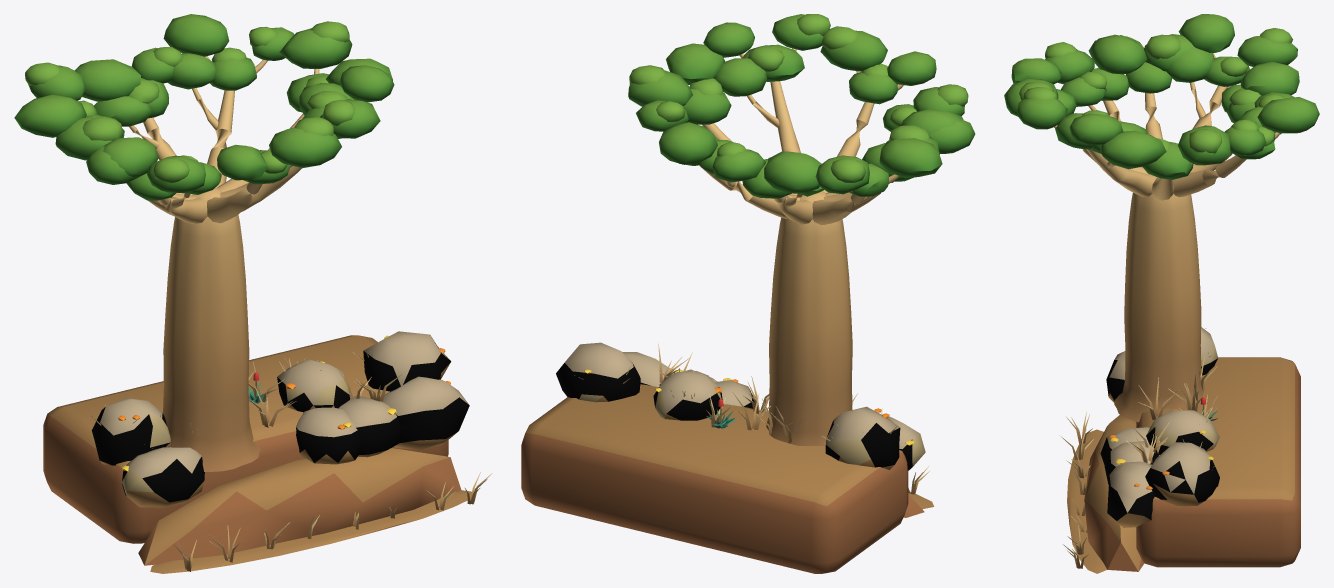
Rendered from SavannaRidgeB.fbx.
The picture shows the model from 3 angles, left to right: view 1: azimuth 30°, elevation 25°; view 2: azimuth 150°, elevation 25°; view 3: azimuth 270°, elevation 25°; orthographic projection. The views are drawn at different scales.
Parts seen in each view (by area): view 1: SavannaRidgeB; view 2: SavannaRidgeB; view 3: SavannaRidgeB.
Part boxes in pixels (x1,y1,x2,y2): SavannaRidgeB: [14, 14, 492, 573]; SavannaRidgeB: [521, 14, 975, 573]; SavannaRidgeB: [1004, 14, 1319, 573].
Size of the model in its own units: 9.39 by 9.92 by 6.9.
2 materials, 2 textured.
